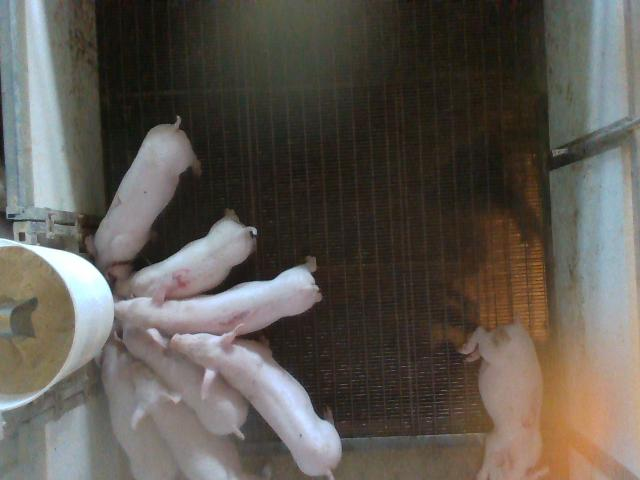pig-1: (115, 258, 321, 346)
pig-3: (459, 321, 549, 478)
pig-4: (108, 210, 256, 299)
